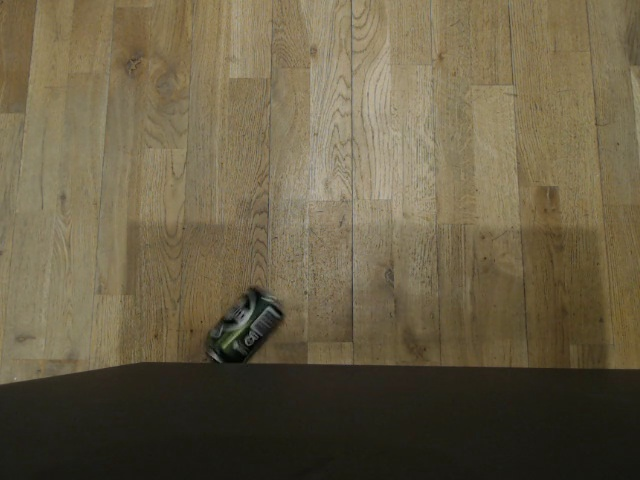beer: (196, 276, 291, 367)
